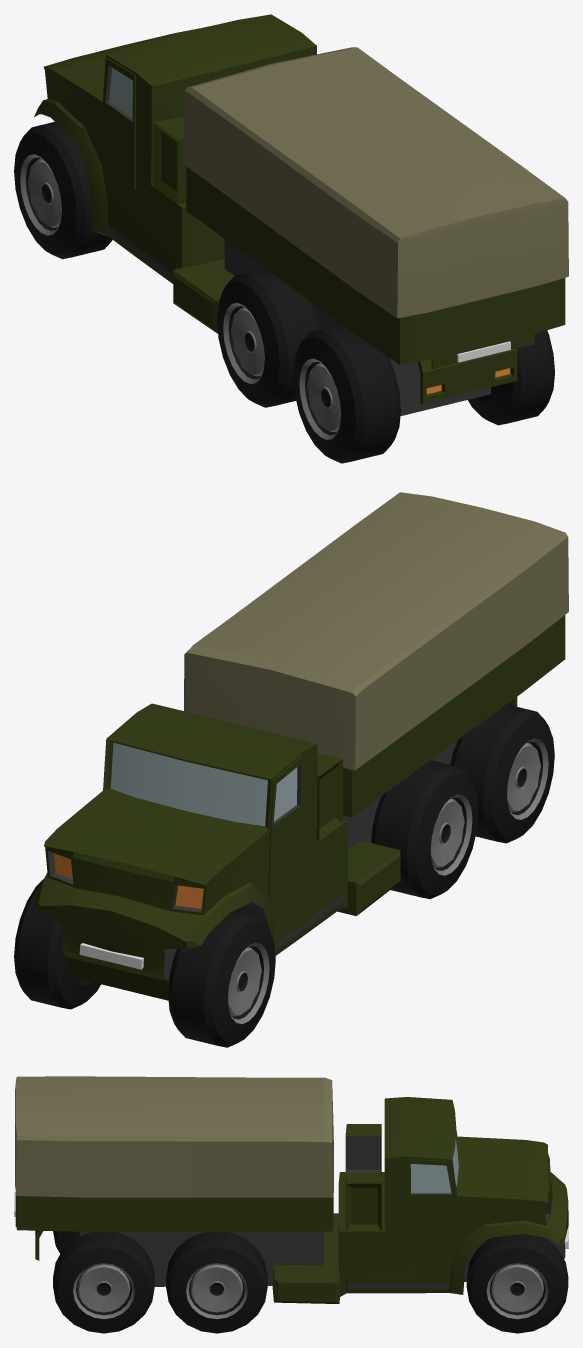
Rendered from Vehicle_05.fbx.
3 renders of one model, top to bottom at view 1: azimuth 30°, elevation 25°; view 2: azimuth 150°, elevation 25°; view 3: azimuth 270°, elevation 25°, orthographic. The views are drawn at different scales.
Visible parts, largest first — view 1: Cylinder.019; view 2: Cylinder.019; view 3: Cylinder.019.
Part boxes in pixels (box(x1,y1,x2,y2)): Cylinder.019: box(14, 14, 568, 463); Cylinder.019: box(14, 492, 568, 1047); Cylinder.019: box(14, 1076, 568, 1333).
Bounding box in the file's own units: 1162 × 456 × 372.
